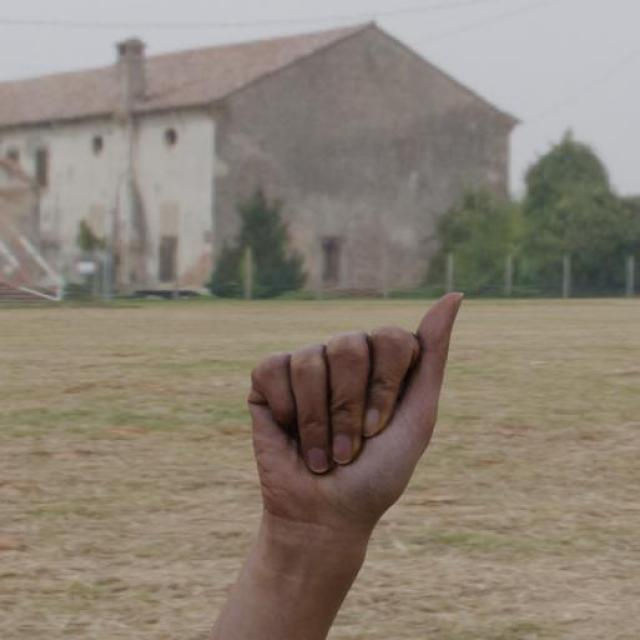A: (245, 286, 475, 512)
